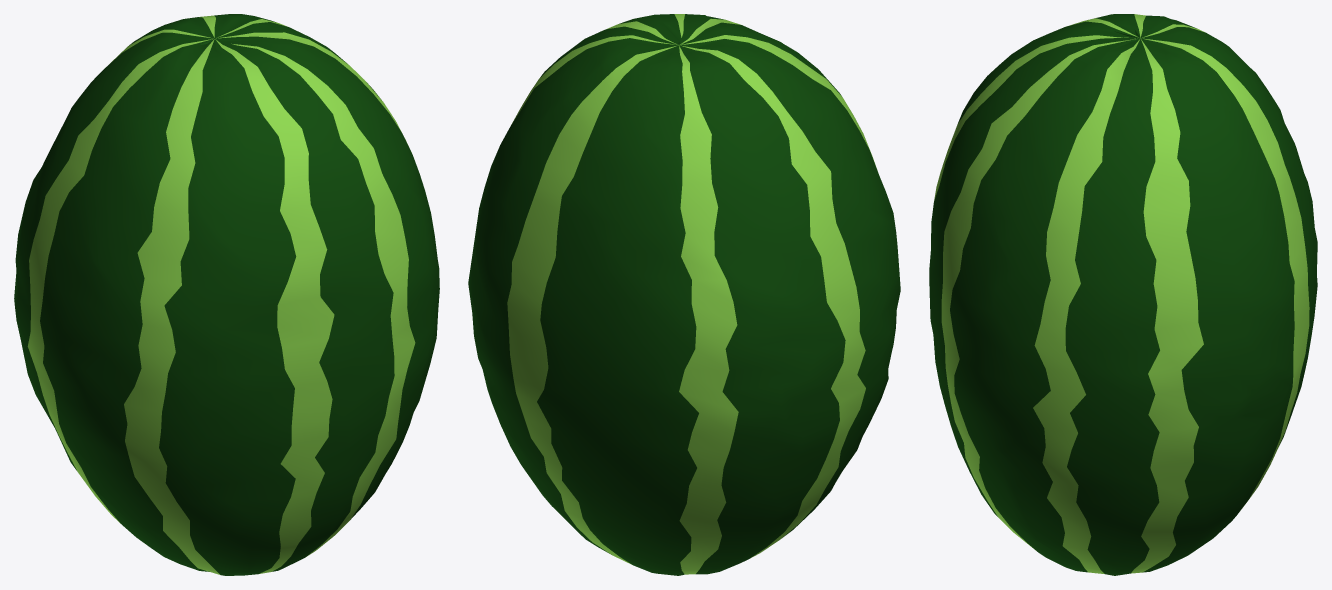
File: watermelon.fbx
3 views of the same model, side by side, from view 1: azimuth 30°, elevation 25°; view 2: azimuth 150°, elevation 25°; view 3: azimuth 270°, elevation 25° (orthographic). The views are drawn at different scales.
Visible parts, largest first — view 1: karpuz; view 2: karpuz; view 3: karpuz.
Part boxes in pixels (bbox=[...]): karpuz: bbox=[14, 14, 439, 575]; karpuz: bbox=[468, 14, 900, 575]; karpuz: bbox=[929, 14, 1317, 575].
Bounding box in the file's own units: 1.41 × 1.89 × 1.29.
